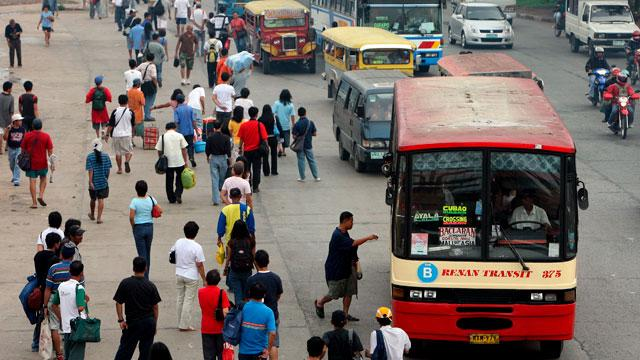bus: (384, 73, 584, 348), (311, 0, 441, 71)
car: (449, 2, 515, 49)
jeepney: (318, 25, 419, 106), (246, 0, 322, 74), (438, 52, 550, 96)
van: (330, 72, 406, 171), (566, 1, 638, 56)
